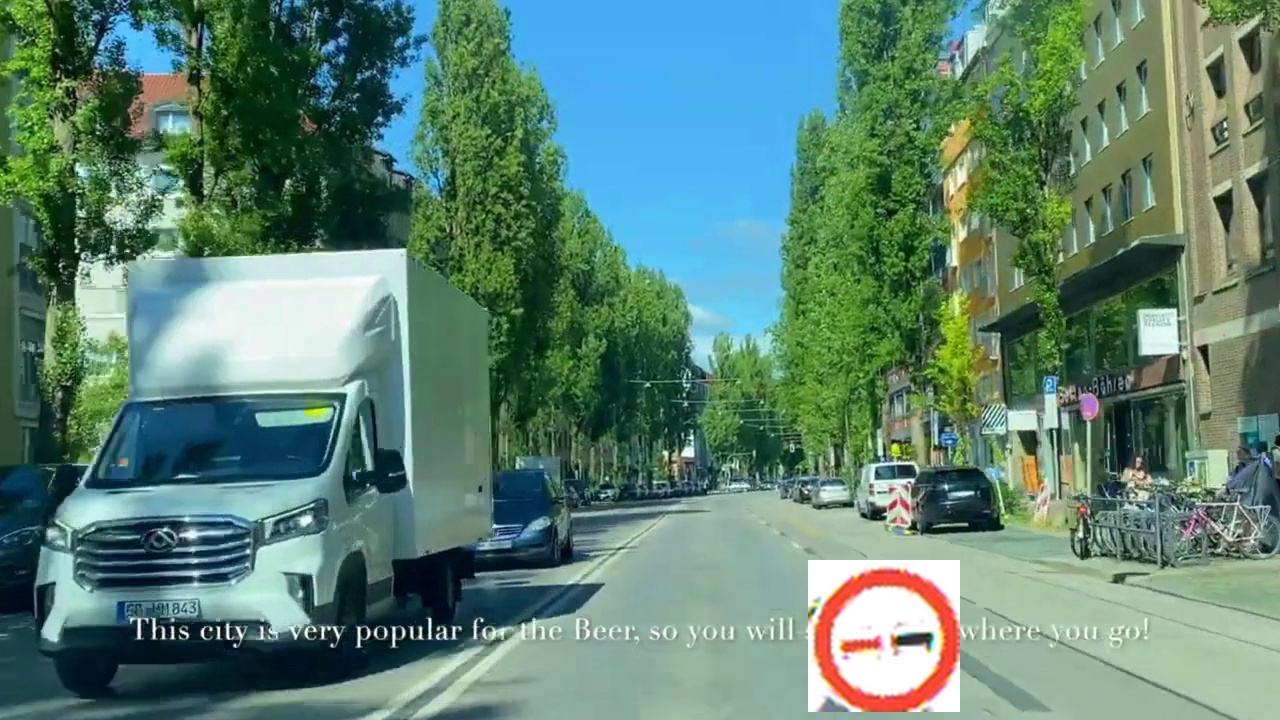No passing: (808, 560, 960, 712)
